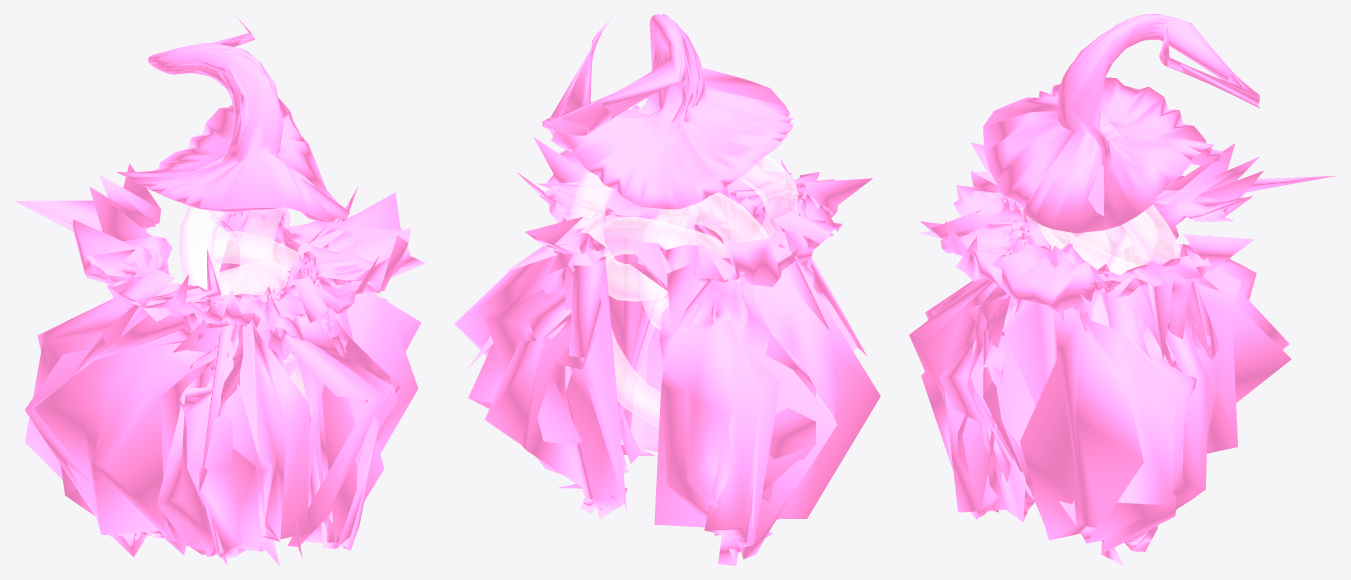
The picture shows the model from 3 angles, left to right: view 1: azimuth 30°, elevation 25°; view 2: azimuth 150°, elevation 25°; view 3: azimuth 270°, elevation 25°; orthographic projection. The views are drawn at different scales.
Parts seen in each view (by area): view 1: f683c8; view 2: f683c8; view 3: f683c8.
Boxes of the visible parts, x1=… form: f683c8: x1=15, y1=15, x2=425, y2=565; f683c8: x1=454, y1=14, x2=880, y2=565; f683c8: x1=909, y1=14, x2=1335, y2=565.
Bounding box in the file's own units: 1.82 × 2.32 × 1.74.
